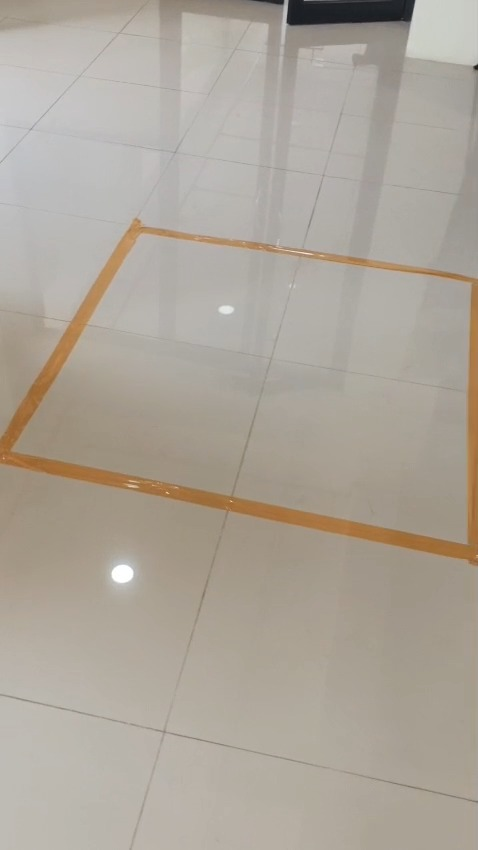floor marking: (0, 219, 477, 564)
